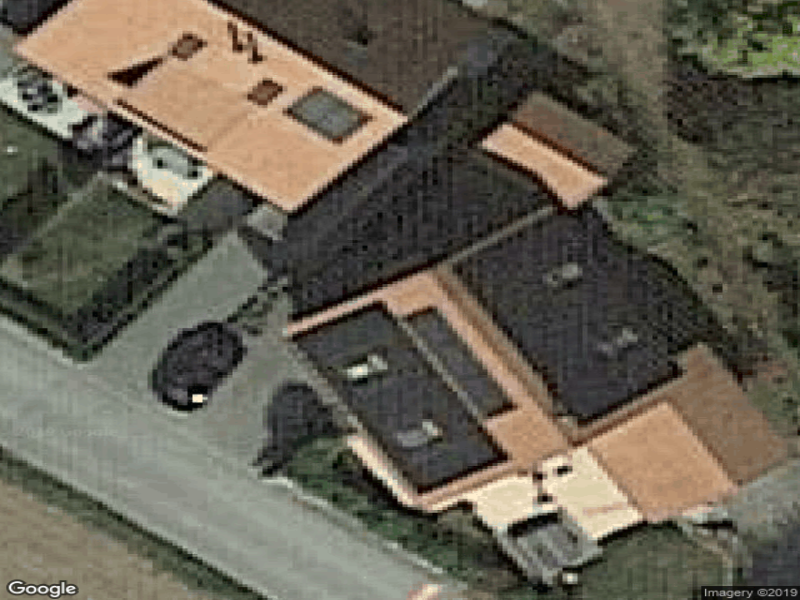pv: (452, 212, 686, 426), (298, 303, 506, 495)
